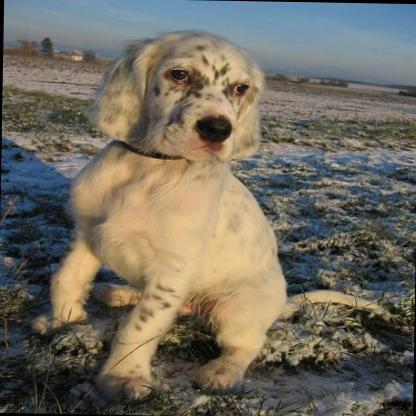English_setter: (27, 25, 405, 408)
